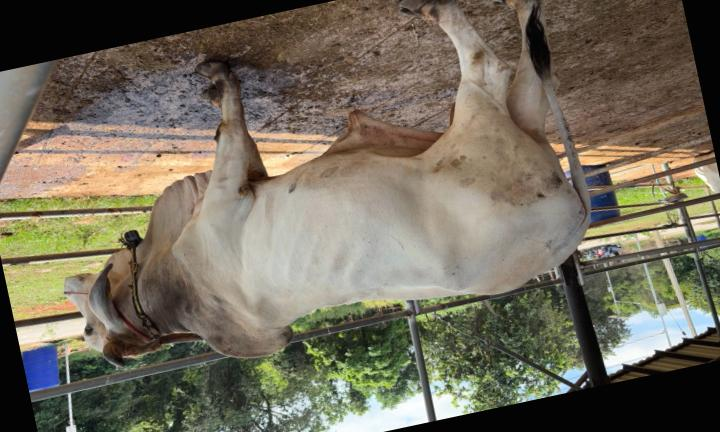Brahman: (65, 0, 591, 365)
